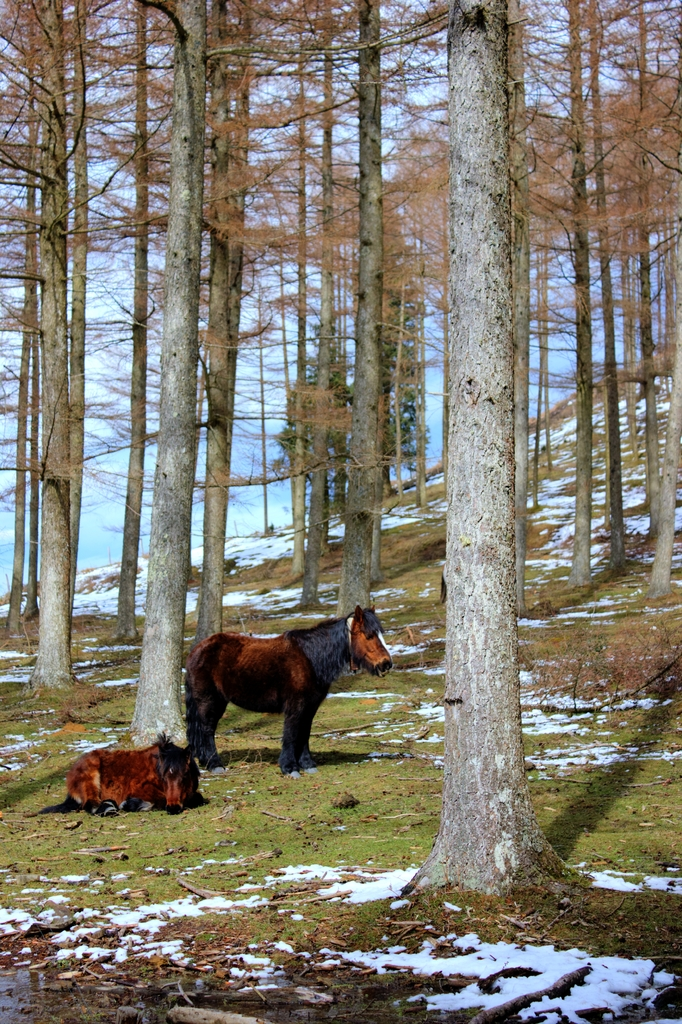horse: (30, 723, 201, 816)
